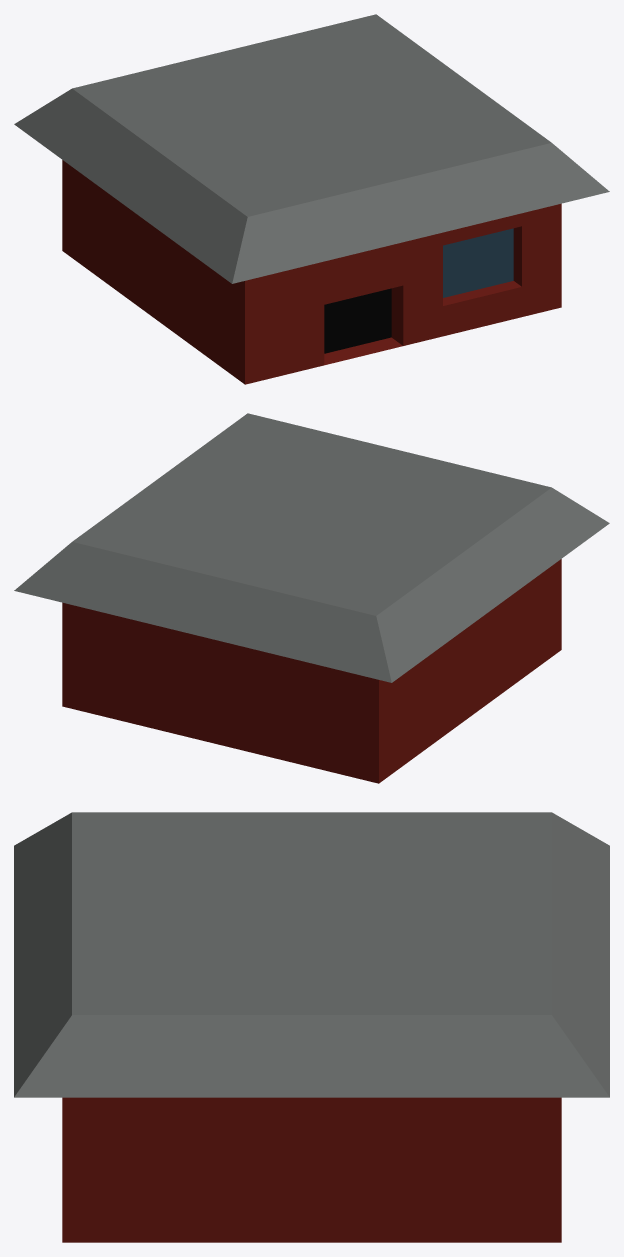
Rendered from BackgroundBuilding3.fbx.
The picture shows the model from 3 angles, top to bottom: view 1: azimuth 30°, elevation 25°; view 2: azimuth 150°, elevation 25°; view 3: azimuth 270°, elevation 25°; orthographic projection. The views are drawn at different scales.
Parts seen in each view (by area): view 1: Cube.002; view 2: Cube.002; view 3: Cube.002.
Part boxes in pixels (left/top/right/bottom): Cube.002: left=14, top=14, right=609, bottom=384; Cube.002: left=14, top=413, right=609, bottom=783; Cube.002: left=14, top=812, right=609, bottom=1242.
Bounding box in the file's own units: 846 × 350 × 846.
